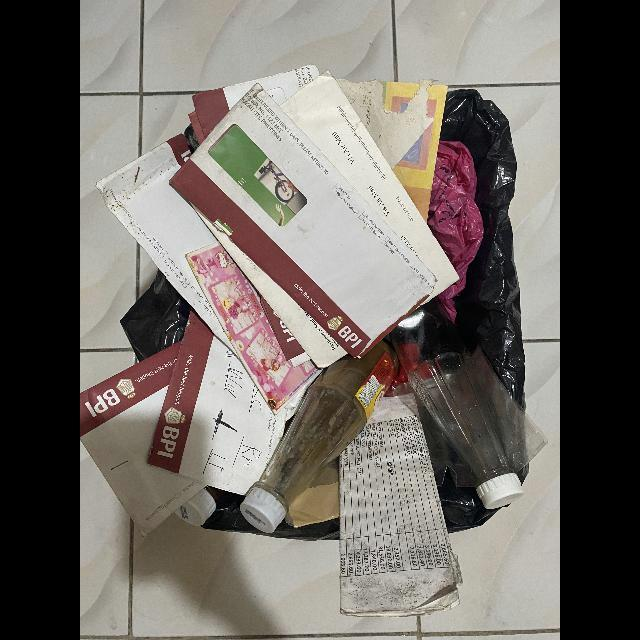glass_bottle: (242, 339, 405, 533), (385, 297, 524, 510)
paper: (167, 82, 439, 361), (282, 72, 461, 301), (95, 129, 237, 356), (146, 306, 310, 496), (340, 390, 464, 618), (187, 199, 347, 371), (80, 341, 209, 539), (186, 242, 320, 416), (338, 76, 448, 221), (186, 63, 319, 146), (286, 464, 340, 525)
plastic_bag: (425, 138, 484, 323)
